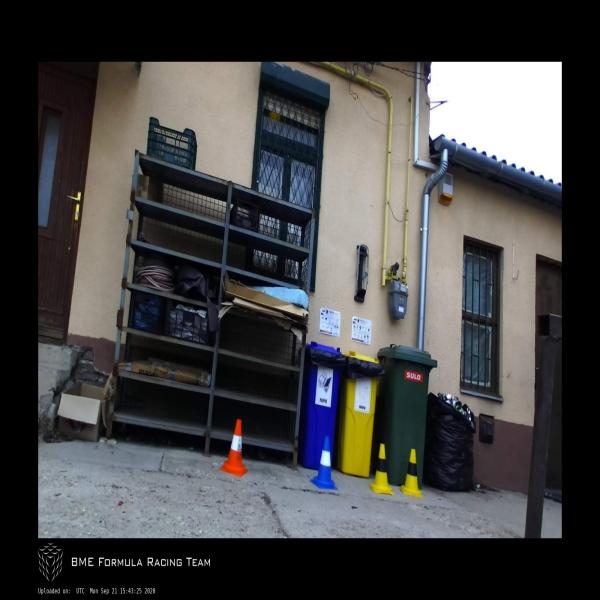blue_cone: (310, 436, 337, 490)
orange_cone: (220, 420, 248, 478)
yellow_cone: (369, 445, 394, 494), (400, 449, 423, 497)
